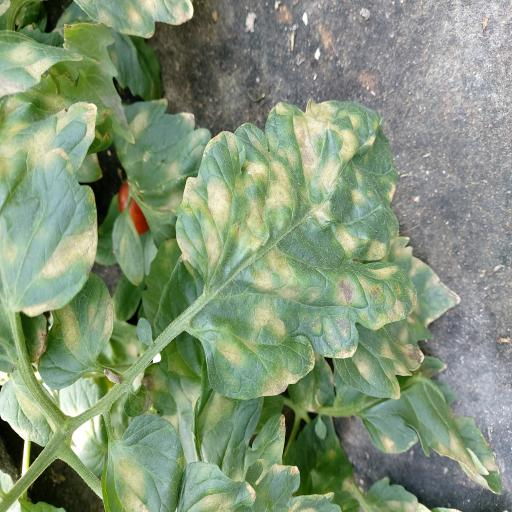disease_tomato: (175, 98, 416, 400), (0, 97, 99, 315), (100, 414, 184, 512)
